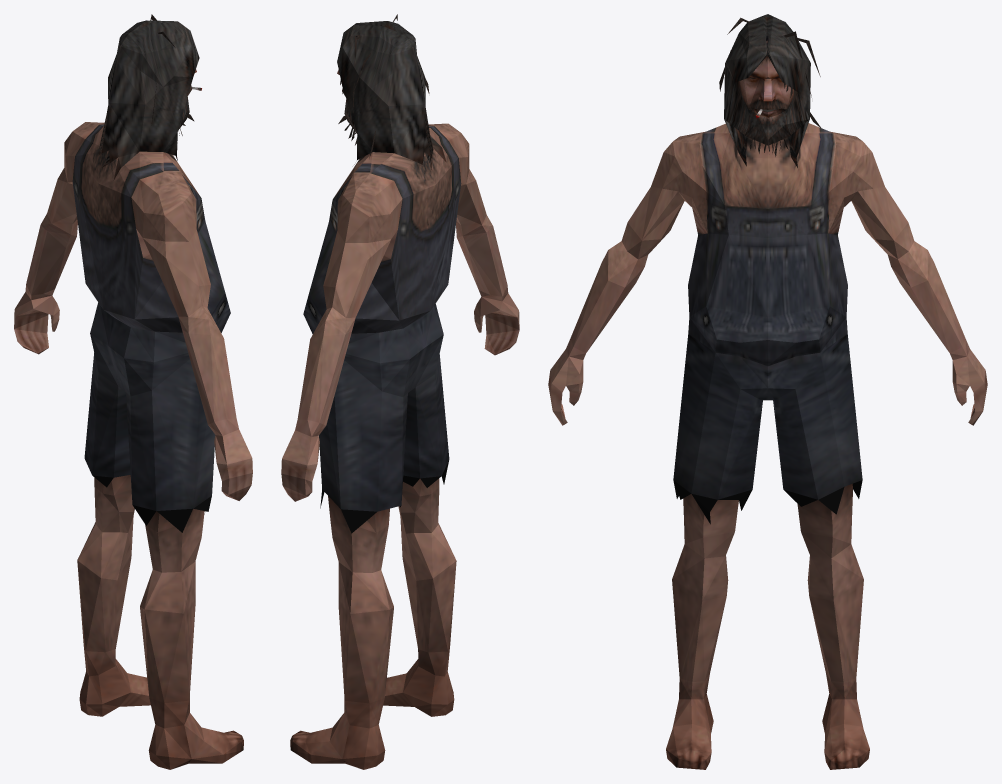
File: cwmyhb2.obj
The picture shows the model from 3 angles, left to right: view 1: azimuth 30°, elevation 25°; view 2: azimuth 150°, elevation 25°; view 3: azimuth 270°, elevation 25°; orthographic projection. The views are drawn at different scales.
Visible parts, largest first — view 1: _Pelvis; view 2: _Pelvis; view 3: _Pelvis.
Boxes of the visible parts, x1,y1,x2,y2 form: _Pelvis: (14, 14, 252, 769); _Pelvis: (281, 14, 519, 769); _Pelvis: (548, 14, 987, 769).
Size of the model in its own units: 0.321 by 1.86 by 1.01.
Materials: 1 (1 with a texture image).
